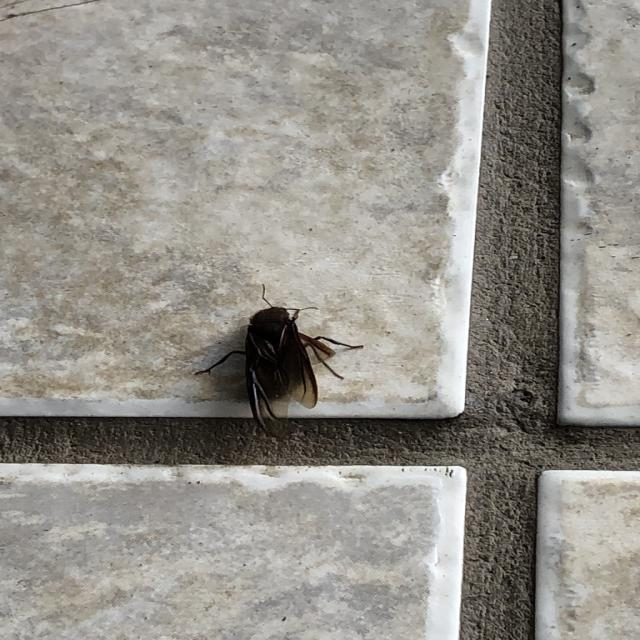Alive-Female-Alate: (193, 283, 364, 439)
